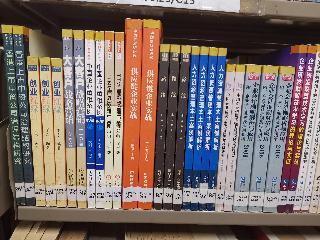book-spine: (282, 46, 316, 215), (276, 45, 308, 214), (262, 66, 295, 215), (0, 24, 27, 206), (291, 45, 320, 214), (135, 19, 160, 210), (247, 66, 278, 215), (11, 25, 36, 206), (232, 64, 262, 214), (121, 19, 143, 210), (204, 47, 228, 213), (221, 65, 247, 213), (212, 64, 237, 212), (188, 47, 210, 212), (180, 45, 201, 212), (24, 56, 47, 207), (171, 44, 191, 212), (198, 48, 218, 213), (38, 55, 58, 208), (162, 45, 180, 211), (152, 44, 169, 211), (109, 32, 125, 209), (50, 57, 68, 208), (72, 30, 87, 209), (64, 28, 78, 210), (101, 31, 114, 210), (95, 30, 106, 209), (85, 30, 96, 208)
